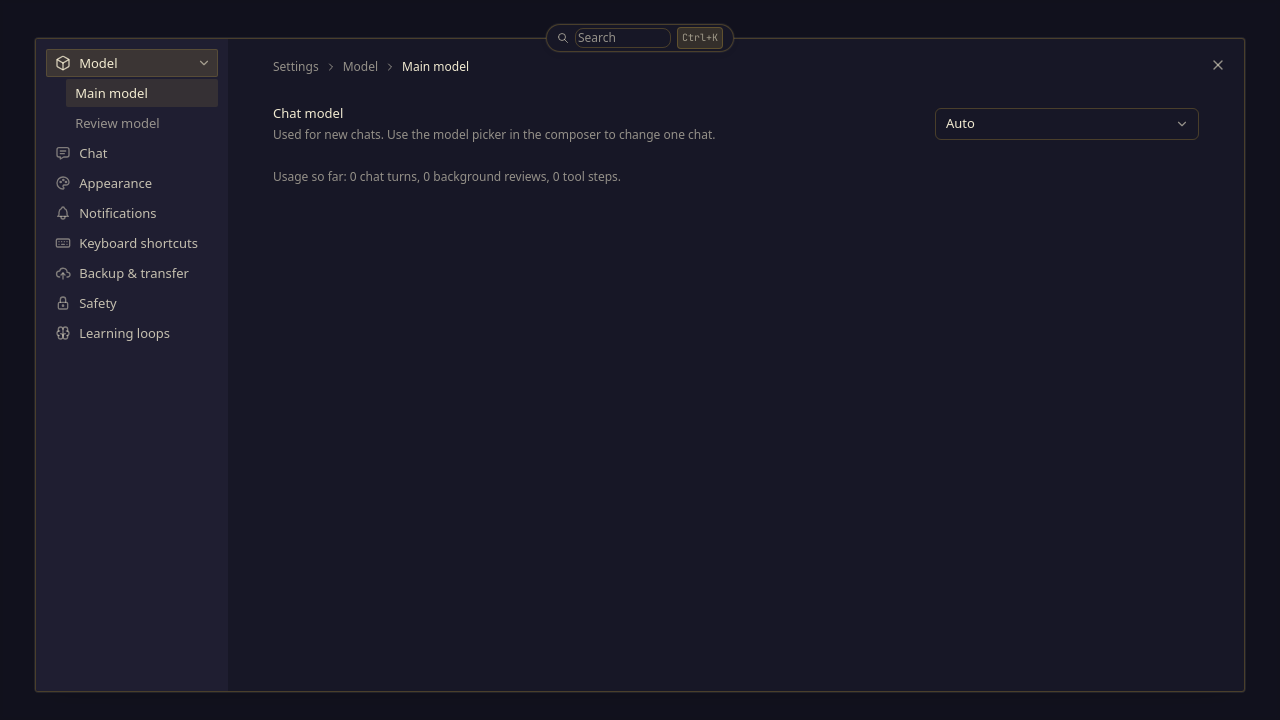
Test: Settings overlay › the left rail opens a page and the breadcrumb follows it
Click the button "Chat" at {"x": 132, "y": 153}, box [46,139,218,167]
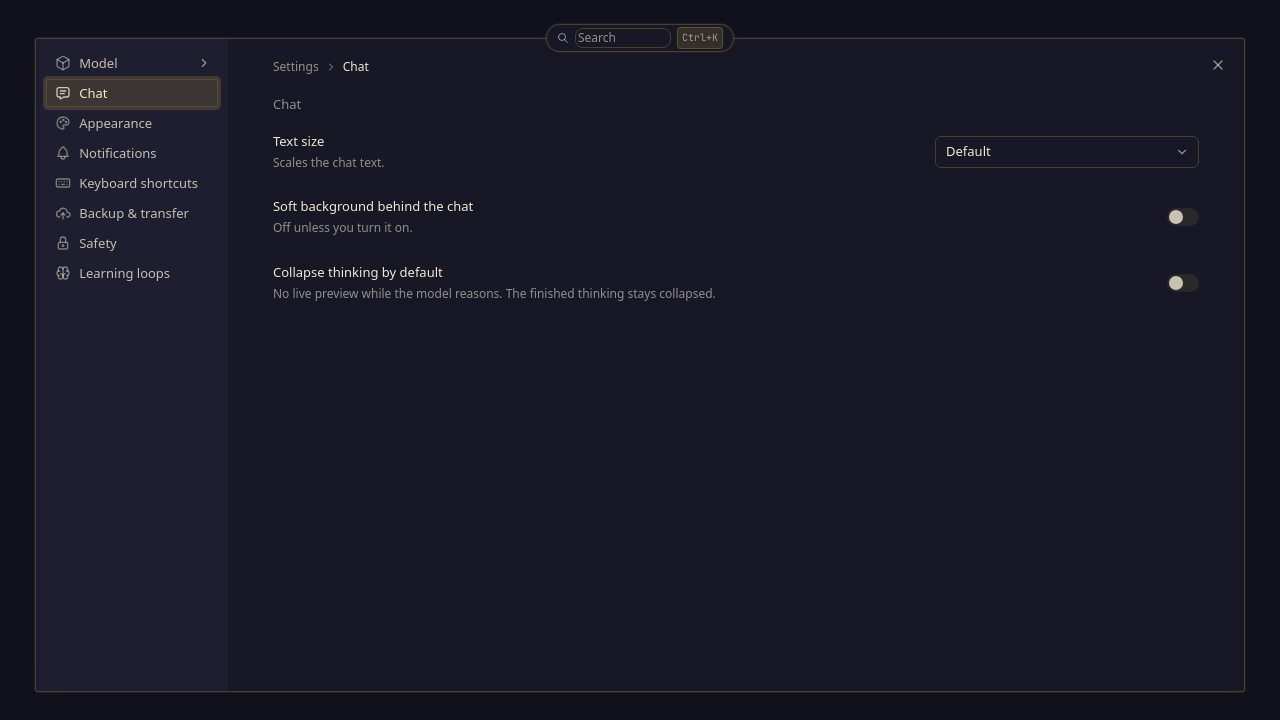
Result: the navigation bar named "Breadcrumb" reads "Settings Chat" at [273,58,369,75]
